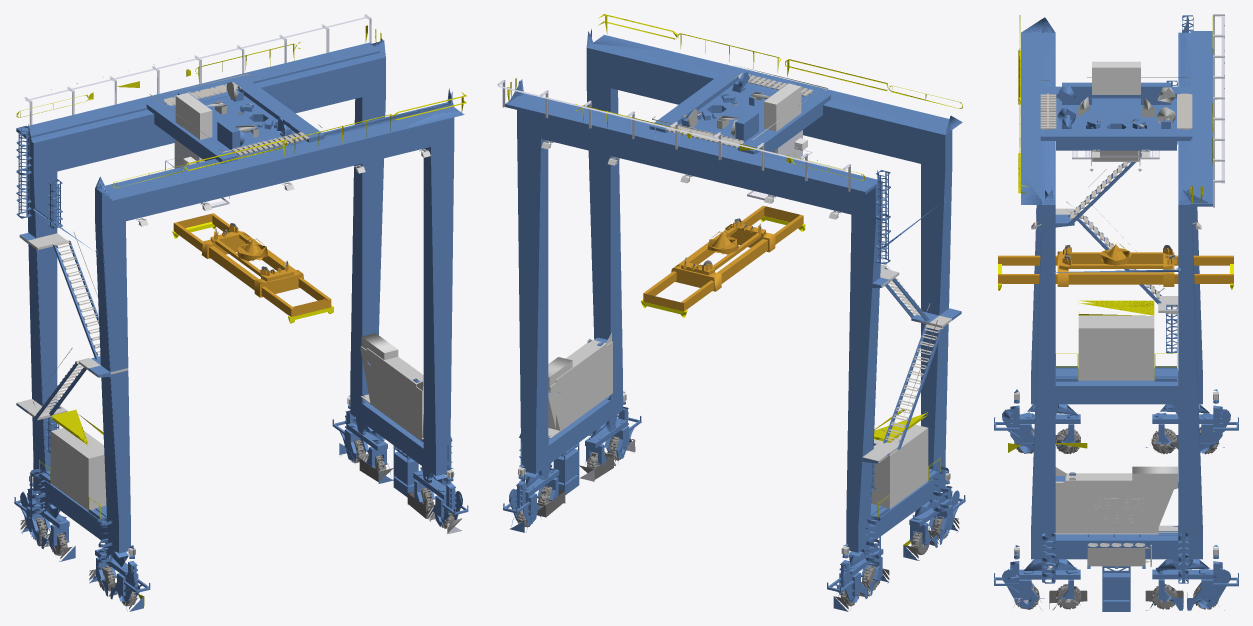
The model's file is gantry_crane_bak.glb.
3 renders of one model, left to right at view 1: azimuth 30°, elevation 25°; view 2: azimuth 150°, elevation 25°; view 3: azimuth 270°, elevation 25°, orthographic.
Visible parts, largest first — view 1: Assembly~212, Assembly~219, Assembly~1305, Assembly~1326, Body_439, Body_444, Assembly~217, Assembly~210, Assembly~1301, Assembly~145, Assembly~173, Assembly~160 (+6 smaller); view 2: Assembly~219, Assembly~212, Assembly~1305, Body_439, Assembly~1326, Assembly~217, Body_444, Assembly~210, Assembly~1301, Assembly~173, Assembly~132, Assembly~145 (+6 smaller); view 3: Assembly~219, Assembly~212, Assembly~1305, Assembly~217, Body_444, Assembly~1326, Assembly~210, Body_439, Assembly~1301, Assembly~173, Assembly~145, Assembly~160 (+22 smaller).
Boxes of the visible parts, x1,y1,x2,y2 form: Assembly~212: [27, 38, 464, 569]; Assembly~219: [27, 40, 453, 558]; Assembly~1305: [146, 79, 324, 163]; Assembly~1326: [173, 213, 331, 316]; Body_439: [16, 42, 379, 138]; Body_444: [50, 428, 106, 510]; Assembly~217: [360, 346, 423, 439]; Assembly~210: [361, 333, 423, 441]; Assembly~1301: [175, 93, 252, 139]; Assembly~145: [413, 472, 468, 526]; Assembly~173: [332, 410, 393, 483]; Assembly~160: [14, 488, 75, 561]; Assembly~219: [509, 31, 952, 557]; Assembly~212: [517, 29, 962, 569]; Assembly~1305: [649, 69, 830, 154]; Body_439: [505, 96, 876, 194]; Assembly~1326: [643, 205, 803, 311]; Assembly~217: [548, 332, 611, 438]; Body_444: [871, 424, 928, 508]; Assembly~210: [548, 338, 612, 430]; Assembly~1301: [697, 83, 801, 131]; Assembly~173: [503, 468, 565, 526]; Assembly~132: [903, 486, 965, 560]; Assembly~145: [585, 406, 641, 465]; Assembly~219: [1031, 17, 1208, 583]; Assembly~212: [1021, 17, 1202, 583]; Assembly~1305: [1040, 82, 1192, 150]; Assembly~217: [1055, 467, 1177, 533]; Body_444: [1078, 316, 1154, 380]; Assembly~1326: [998, 248, 1233, 286]; Assembly~210: [1055, 466, 1177, 533]; Body_439: [1190, 31, 1212, 206]; Assembly~1301: [1092, 61, 1145, 127]; Assembly~173: [1145, 561, 1238, 610]; Assembly~145: [994, 561, 1080, 608]; Assembly~160: [1145, 405, 1238, 453].
Size of what is drawn, in the model's own units: 21532 by 24869 by 12471.
